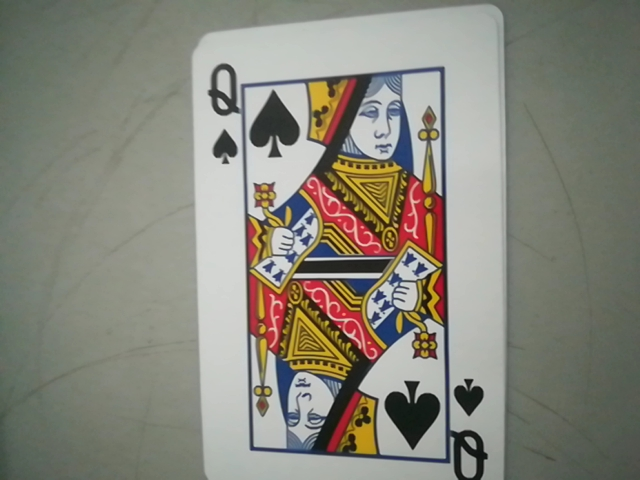ht q: (196, 49, 248, 173)
